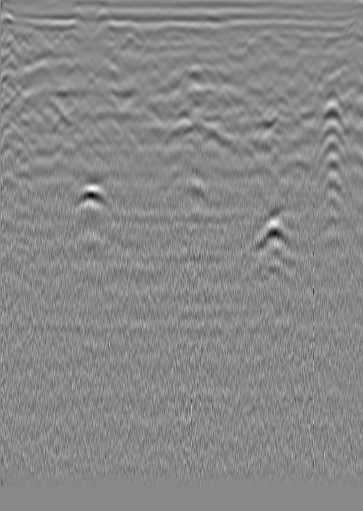가스: (72, 177, 117, 213)
상수: (309, 39, 329, 59)
오수: (26, 25, 46, 45)
우수: (176, 29, 196, 49)
